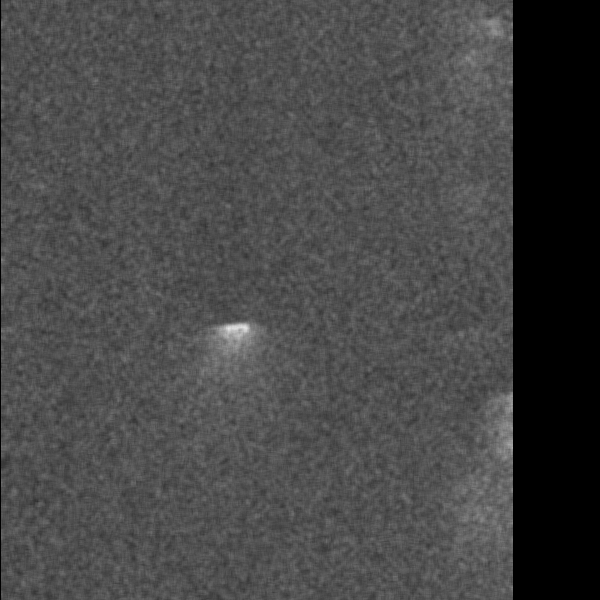spark: (168, 287, 215, 447), (422, 193, 473, 280), (171, 453, 213, 547), (175, 139, 208, 242), (83, 271, 111, 338), (174, 569, 218, 600)
